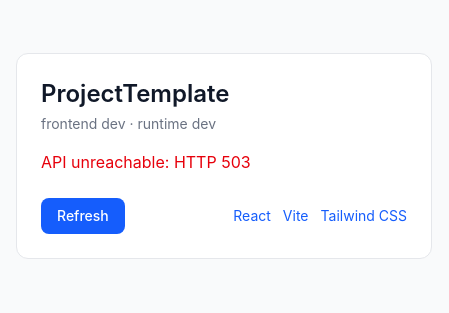
Scenario: HomePage › re-requests the metadata when the user clicks Refresh
Expected: the message shows "HTTP 503", [174,152,251,172]
Click the button "Refresh" at {"x": 83, "y": 216}, box [41,198,125,234]
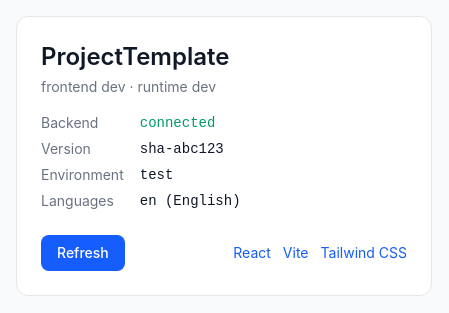
Expected: the text "sha-abc123" is shown, [140,141,224,157]
Expected: the message "API unreachable: HTTP 503" is gone
